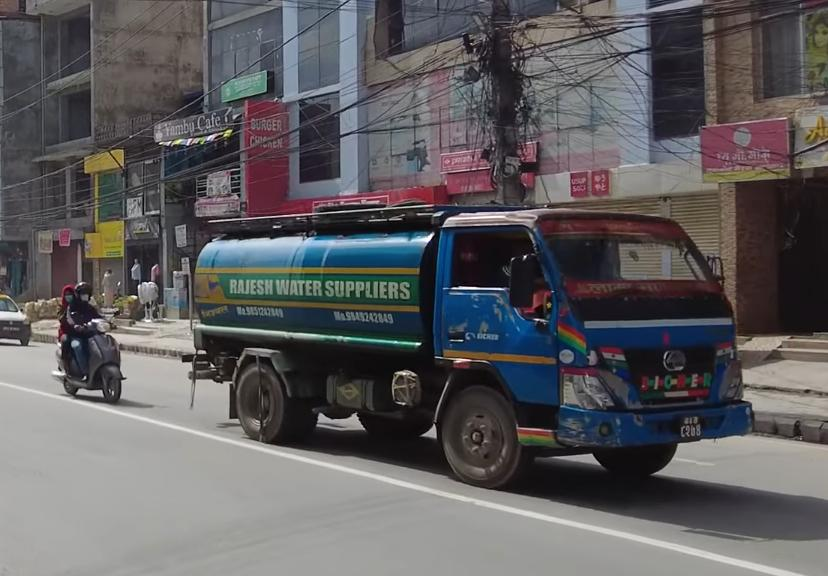mini_truck: (183, 187, 763, 492)
scooter: (45, 283, 143, 409)
taxi: (3, 283, 29, 343)
